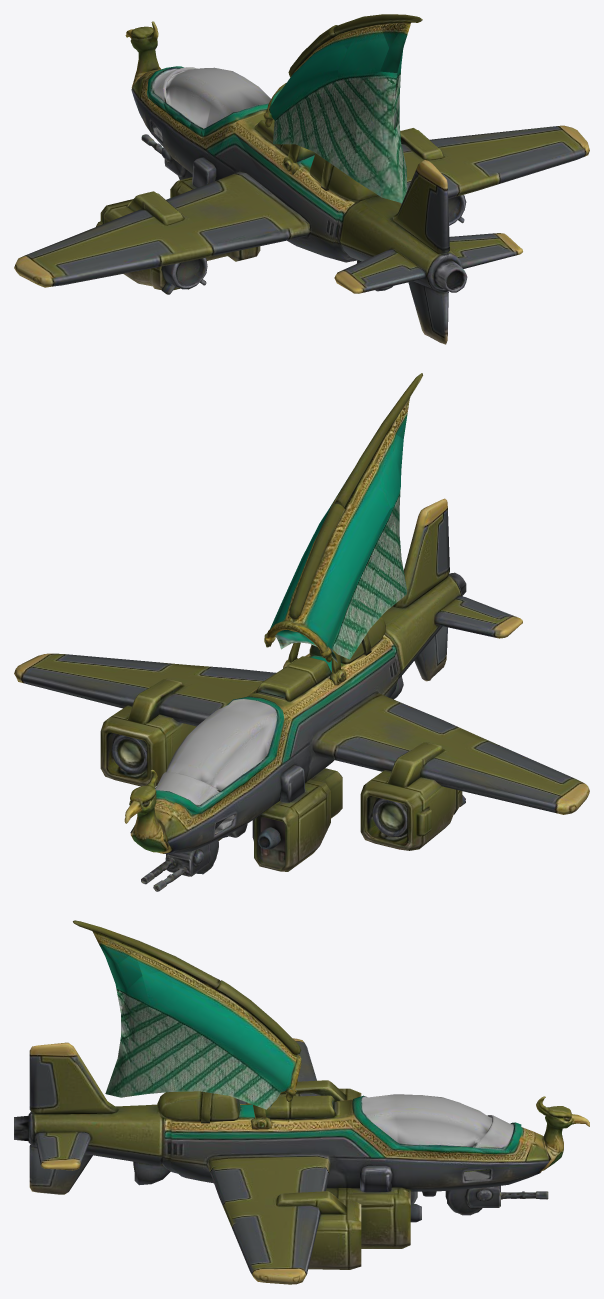
The model's file is river_tug.glb.
The picture shows the model from 3 angles, top to bottom: view 1: azimuth 30°, elevation 25°; view 2: azimuth 150°, elevation 25°; view 3: azimuth 270°, elevation 25°; orthographic projection. The views are drawn at different scales.
Parts seen in each view (by area): view 1: Body, Trim; view 2: Body, Trim; view 3: Body, Trim.
Part boxes in pixels (x1=…): Body: x1=14, y1=14, x2=589, y2=344; Trim: x1=147, y1=25, x2=403, y2=238; Body: x1=14, y1=373, x2=589, y2=891; Trim: x1=156, y1=432, x2=403, y2=814; Body: x1=14, y1=920, x2=589, y2=1284; Trim: x1=100, y1=937, x2=522, y2=1154.
Size of the model in its own units: 3.81 by 2.26 by 3.87.
2 materials, 2 textured.
